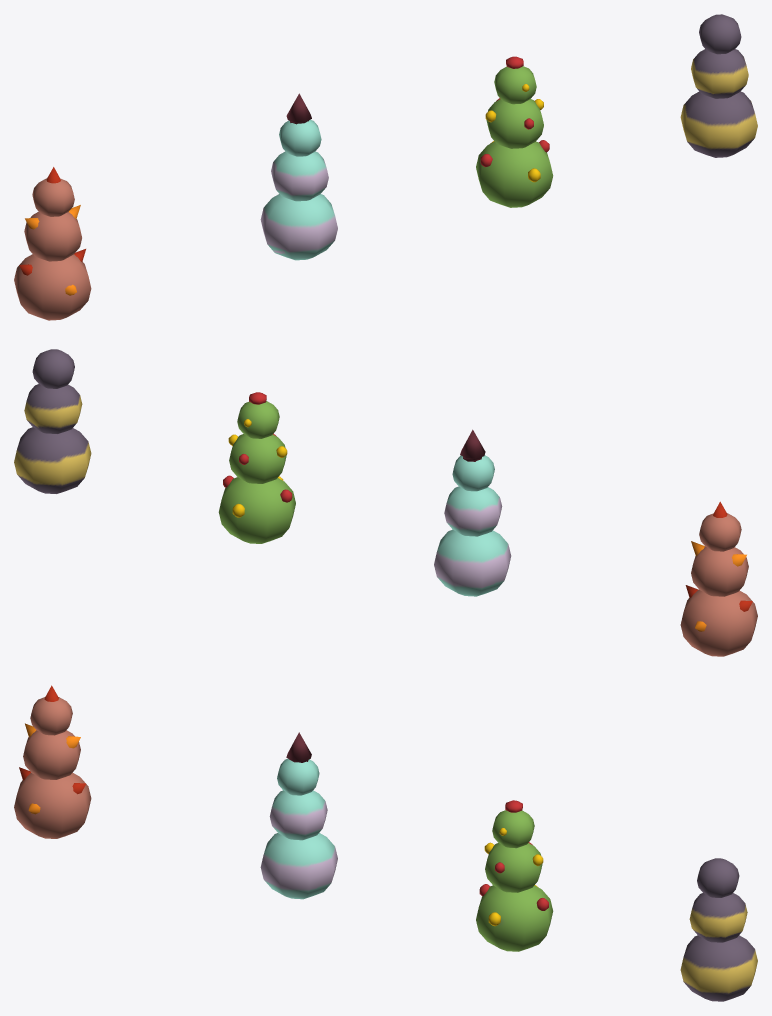
Rendered from Semillas_LOW.fbx.
3 renders of one model, top to bottom at view 1: azimuth 30°, elevation 25°; view 2: azimuth 150°, elevation 25°; view 3: azimuth 330°, elevation 25°, orthographic.
Visible parts, largest first — view 1: Semilla2_LOW, Semilla3_LOW, Semilla1_LOW, Semilla4_LOW; view 2: Semilla2_LOW, Semilla3_LOW, Semilla1_LOW, Semilla4_LOW; view 3: Semilla2_LOW, Semilla3_LOW, Semilla1_LOW, Semilla4_LOW.
Boxes of the visible parts, left/top/right/bottom form: Semilla2_LOW: left=260, top=93, right=337, bottom=260; Semilla3_LOW: left=476, top=56, right=553, bottom=207; Semilla1_LOW: left=14, top=167, right=91, bottom=320; Semilla4_LOW: left=680, top=14, right=757, bottom=157; Semilla2_LOW: left=434, top=429, right=511, bottom=596; Semilla3_LOW: left=218, top=392, right=295, bottom=543; Semilla1_LOW: left=680, top=501, right=757, bottom=656; Semilla4_LOW: left=14, top=349, right=91, bottom=493; Semilla2_LOW: left=260, top=732, right=337, bottom=899; Semilla3_LOW: left=476, top=800, right=553, bottom=951; Semilla1_LOW: left=14, top=685, right=91, bottom=838; Semilla4_LOW: left=680, top=858, right=757, bottom=1001.
Bounding box in the file's own units: 218 × 46.31 × 24.91.
